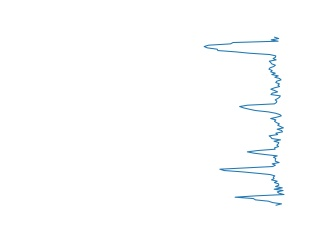distalBar: (200, 33, 287, 85)
interdistributaryEstuary: (236, 84, 287, 141)
underwaterNaturalLevee: (216, 140, 288, 208)
